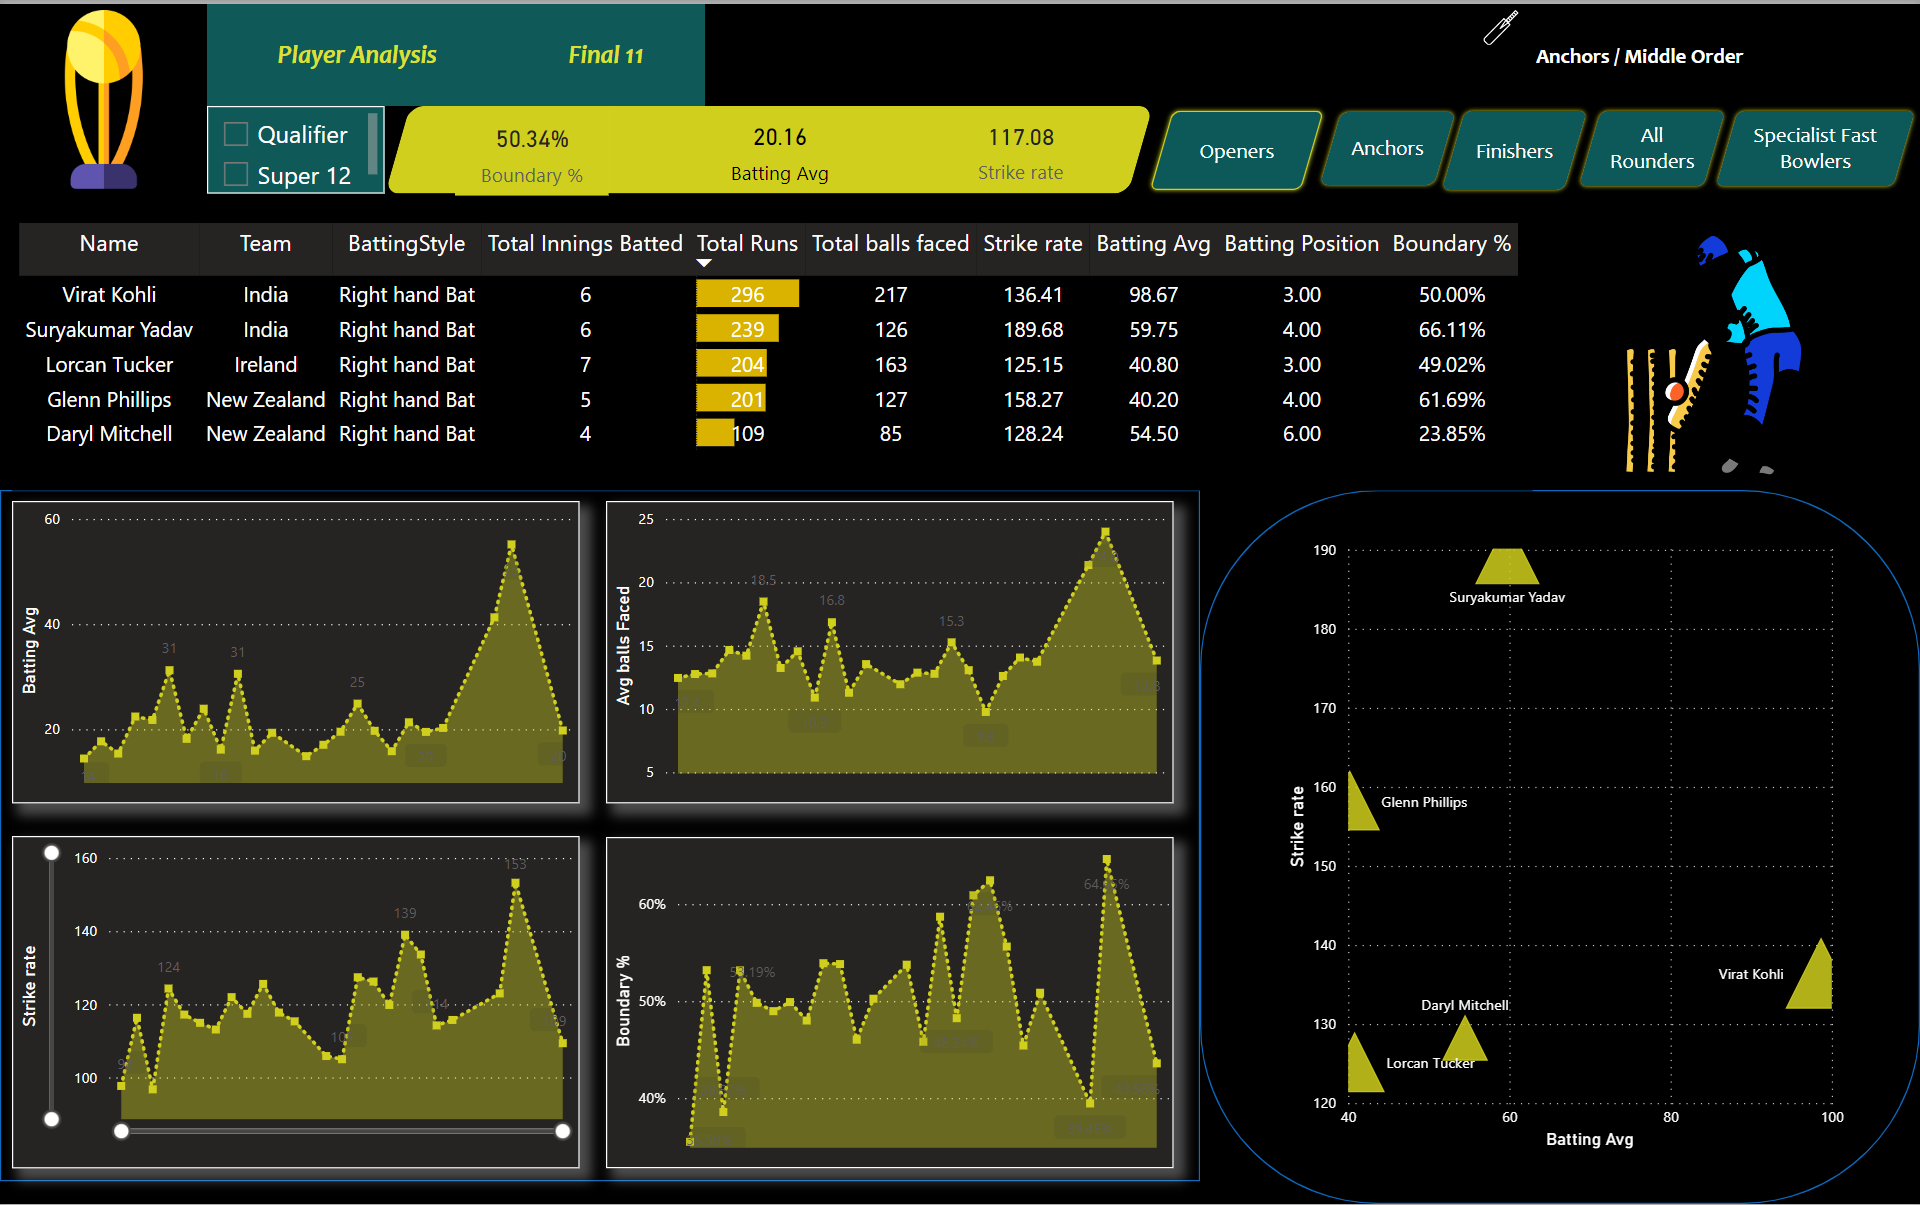

The dashboard page shown, as its layout file describes it:
{"tool":"powerbi","page":{"name":"Anchors/Middle order1","canvas":[1600,1000],"ordinal":1},"visuals":[{"type":"group","id":"g1","title":"Group 2","box":[1279.8,2.8,318.8,82.6],"z":0,"group":"g2"},{"type":"shape","box":[1279.8,2.8,318.8,82.6],"z":0,"group":"g1"},{"type":"shape","box":[321,85.1,639.5,72.9],"z":0},{"type":"image","box":[1223.5,0,54.1,38.7],"z":1000,"group":"g2"},{"type":"card","fields":{"Values":["key_measures.Avg balls Faced"]},"box":[507,86.3,133.7,72.9],"z":1000},{"type":"card","fields":{"Values":["key_measures.Strike rate"]},"box":[784.2,86.3,132.5,69.3],"z":2000},{"type":"card","fields":{"Values":["key_measures.Boundary %"]},"box":[379.3,86.3,127.7,72.9],"z":3000},{"type":"card","fields":{"Values":["key_measures.Batting Avg"]},"box":[640.7,86.3,143.5,69.3],"z":4000},{"type":"actionButton","title":"Button Player Ana selected","box":[172.4,0,250,85],"z":5000},{"type":"actionButton","title":"Button Player Ana selected","box":[422.4,0,165,85],"z":6000},{"type":"actionButton","box":[954.4,85.1,153.2,74.2],"z":7000},{"type":"actionButton","box":[1096.1,86.2,120.7,69],"z":8000},{"type":"actionButton","box":[1197.6,85.1,128.9,74.2],"z":9000},{"type":"actionButton","box":[1311.9,85.1,130.1,70.5],"z":10000},{"type":"actionButton","box":[1426.1,85.1,173.9,70.5],"z":11000},{"type":"slicer","fields":{"Values":["Dim_match_summary.stage"]},"box":[172.6,85.1,148.3,72.9],"z":12000},{"type":"shape","box":[0,405.2,1000,576.4],"z":13000},{"type":"areaChart","fields":{"Y":["key_measures.Batting Avg"],"Category":["Dim_match_summary.matchDate"]},"box":[9.9,413.8,472.9,252.5],"z":14000},{"type":"areaChart","fields":{"Y":["key_measures.Avg balls Faced"],"Category":["Dim_match_summary.matchDate"]},"box":[504.9,413.8,472.9,252.5],"z":15000},{"type":"areaChart","fields":{"Y":["key_measures.Strike rate"],"Category":["Dim_match_summary.matchDate"]},"box":[9.9,693.3,472.9,277.1],"z":16000},{"type":"areaChart","fields":{"Y":["key_measures.Boundary %"],"Category":["Dim_match_summary.matchDate"]},"box":[504.9,694.6,472.9,275.9],"z":17000},{"type":"shape","box":[1000,405.2,599.8,594.8],"z":18000},{"type":"scatterChart","fields":{"Size":["key_measures.Total Runs"],"X":["key_measures.Batting Avg"],"Y":["key_measures.Strike rate"],"Category":["Dim_players.name"]},"box":[1067.7,440.9,474.1,518.5],"z":19000},{"type":"image","box":[0,0,172.4,158.9],"z":20000},{"type":"tableEx","fields":{"Values":["Dim_players.name","Dim_players.team","Dim_players.battingStyle","key_measures.Total Innings Batted","key_measures.Total Runs","key_measures.Avg balls Faced","key_measures.Strike rate","key_measures.Batting Avg","key_measures.Batting Position","key_measures.Boundary %"]},"box":[9.9,177.3,1267.2,227.8],"z":21000},{"type":"image","box":[1262.3,177.3,337.4,227.8],"z":22000},{"type":"group","id":"g2","title":"Group 1","box":[1223.5,0,375.4,85.3],"z":23000}]}

Visuals, with their boxes in screenshot pixels (x1, y1, x2, y2), scaled from the page's 1600x1000 canvas onto the 1920x1205 screenshot:
"Group 2" group: x1=1536 y1=3 x2=1918 y2=103
shape: x1=1536 y1=3 x2=1918 y2=103
shape: x1=385 y1=103 x2=1153 y2=190
image: x1=1468 y1=0 x2=1533 y2=47
card - key_measures.Avg balls Faced: x1=608 y1=104 x2=769 y2=192
card - key_measures.Strike rate: x1=941 y1=104 x2=1100 y2=187
card - key_measures.Boundary %: x1=455 y1=104 x2=608 y2=192
card - key_measures.Batting Avg: x1=769 y1=104 x2=941 y2=187
"Button Player Ana selected" actionButton: x1=207 y1=0 x2=507 y2=102
"Button Player Ana selected" actionButton: x1=507 y1=0 x2=705 y2=102
actionButton: x1=1145 y1=103 x2=1329 y2=192
actionButton: x1=1315 y1=104 x2=1460 y2=187
actionButton: x1=1437 y1=103 x2=1592 y2=192
actionButton: x1=1574 y1=103 x2=1730 y2=187
actionButton: x1=1711 y1=103 x2=1919 y2=187
slicer - Dim_match_summary.stage: x1=207 y1=103 x2=385 y2=190
shape: x1=0 y1=488 x2=1200 y2=1183
areaChart - key_measures.Batting Avg x Dim_match_summary.matchDate: x1=12 y1=499 x2=579 y2=803
areaChart - key_measures.Avg balls Faced x Dim_match_summary.matchDate: x1=606 y1=499 x2=1173 y2=803
areaChart - key_measures.Strike rate x Dim_match_summary.matchDate: x1=12 y1=835 x2=579 y2=1169
areaChart - key_measures.Boundary % x Dim_match_summary.matchDate: x1=606 y1=837 x2=1173 y2=1169
shape: x1=1200 y1=488 x2=1919 y2=1204
scatterChart - key_measures.Total Runs x key_measures.Batting Avg: x1=1281 y1=531 x2=1850 y2=1156
image: x1=0 y1=0 x2=207 y2=191
tableEx - Dim_players.name x Dim_players.team: x1=12 y1=214 x2=1533 y2=488
image: x1=1515 y1=214 x2=1919 y2=488
"Group 1" group: x1=1468 y1=0 x2=1919 y2=103
